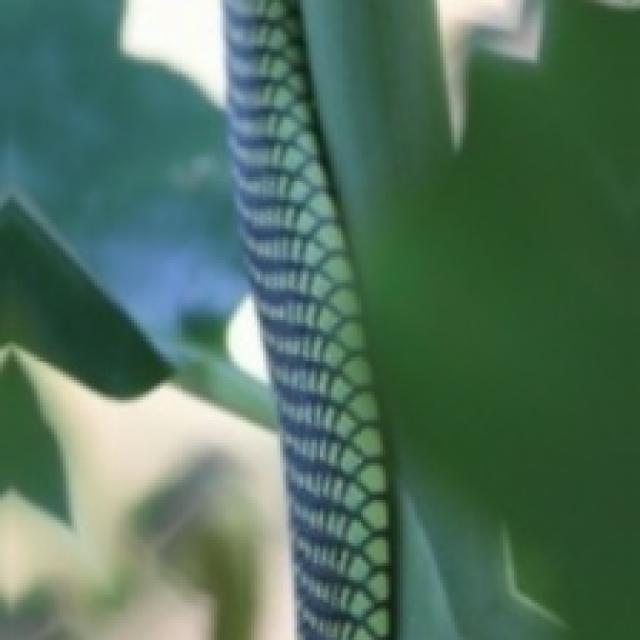paradise tree snake: (226, 0, 389, 637)
